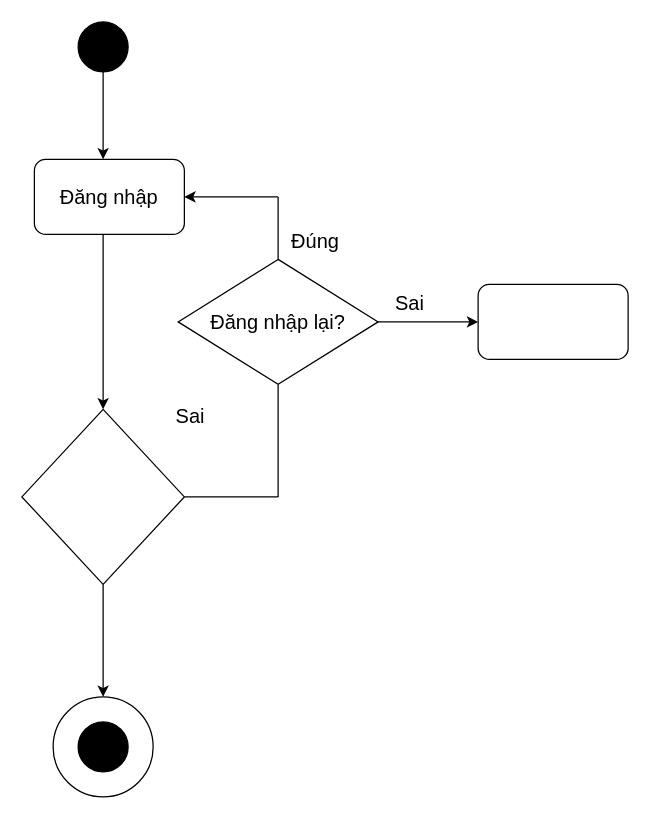
Image size: 650x819. Some labels were removed from this diagram. The shapes that lost their labels are listed below. From the top down, each one's centre as x and y in pixels, then its label:
point 552,321: Kết thúc
point 102,496: Kiểm tra?
